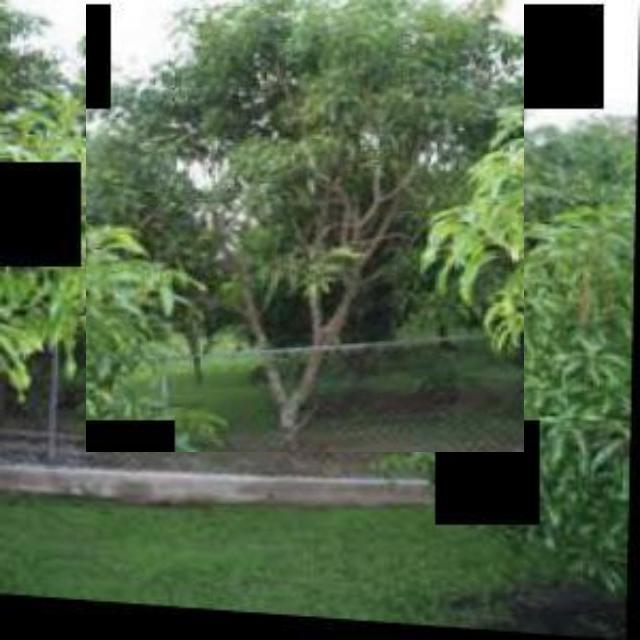tree: (86, 0, 524, 452)
